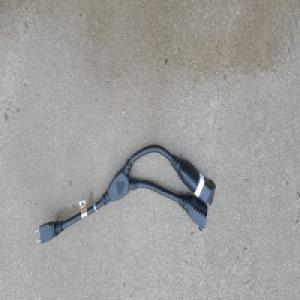Wire: (33, 141, 217, 246)
